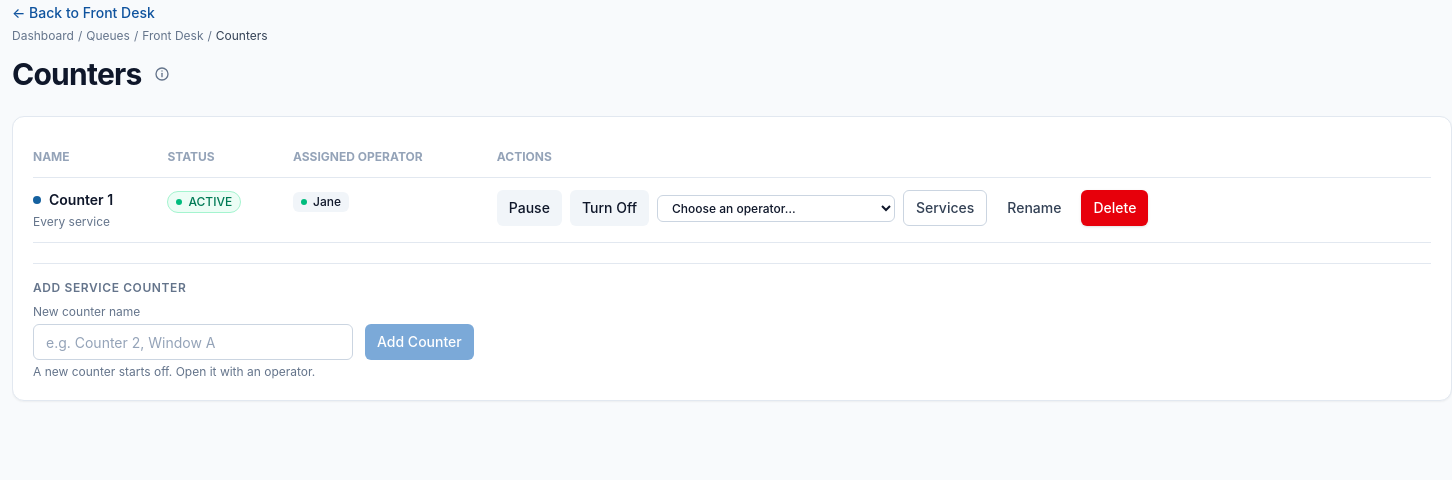
Test: QueueCountersPage — counter lifecycle (ADR-069) › shows the backend message when a change is refused
Click the button "Pause" at (529, 208), box [497,190,562,226]
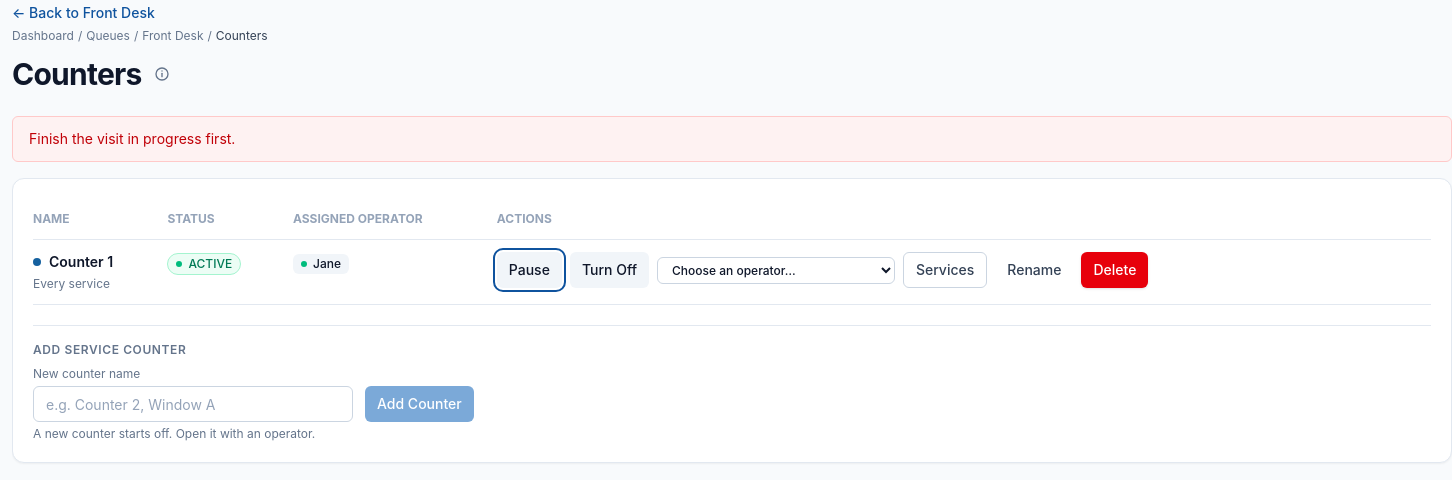
Check: the message reads "Finish the visit in progress first.", box [29,130,235,147]
